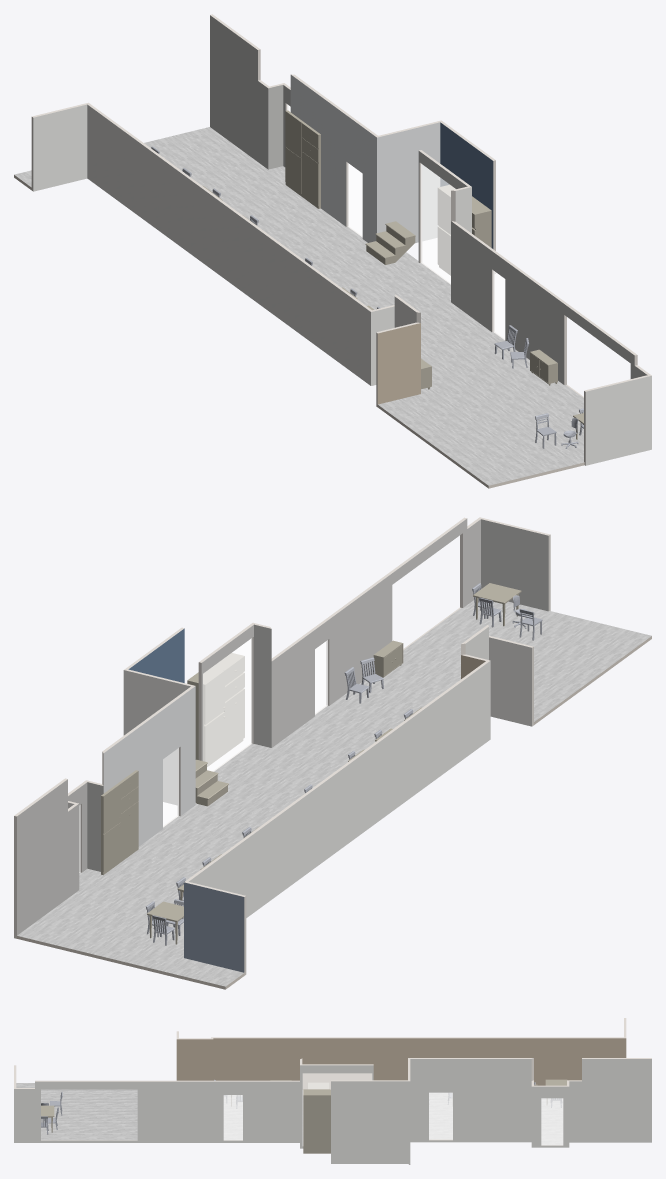
The model's file is LobbyHallway.glb.
The picture shows the model from 3 angles, top to bottom: view 1: azimuth 30°, elevation 25°; view 2: azimuth 150°, elevation 25°; view 3: azimuth 270°, elevation 25°; orthographic projection. The views are drawn at different scales.
Visible parts, largest first — view 1: floor_Dining_Room, wall_10, wall_44, wall_22, wall_30, wall_28, wall_9, wall_4, wall_42, door_2, door_6, storage_cabinet_tall21 (+14 smaller); view 2: floor_Dining_Room, wall_10, wall_44, wall_22, wall_30, door_2, door_6, wall_34, wall_24, storage_cabinet_tall20, wall_13, storage_cabinet_tall21 (+18 smaller); view 3: wall_36, wall_14, wall_3, floor_Dining_Room, wall_7, wall_12, storage_cabinet_tall20, wall_46, wall_1, door_3, door_7, door_1 (+8 smaller).
Part boxes in pixels (x1=…): floor_Dining_Room: x1=144, y1=127, x2=584, y2=485; wall_10: x1=87, y1=104, x2=370, y2=385; wall_44: x1=451, y1=221, x2=647, y2=384; wall_22: x1=290, y1=75, x2=376, y2=242; wall_30: x1=210, y1=15, x2=268, y2=169; wall_28: x1=377, y1=122, x2=440, y2=243; wall_9: x1=585, y1=375, x2=651, y2=465; wall_4: x1=33, y1=104, x2=87, y2=191; wall_42: x1=377, y1=323, x2=420, y2=404; door_2: x1=421, y1=164, x2=455, y2=284; door_6: x1=421, y1=164, x2=454, y2=284; storage_cabinet_tall21: x1=285, y1=110, x2=320, y2=208; floor_Dining_Room: x1=17, y1=600, x2=651, y2=972; wall_10: x1=189, y1=661, x2=490, y2=917; wall_44: x1=271, y1=518, x2=480, y2=747; wall_22: x1=103, y1=686, x2=195, y2=846; wall_30: x1=17, y1=779, x2=79, y2=935; door_2: x1=203, y1=638, x2=251, y2=771; door_6: x1=203, y1=638, x2=251, y2=771; wall_34: x1=481, y1=519, x2=548, y2=611; wall_24: x1=184, y1=882, x2=244, y2=972; storage_cabinet_tall20: x1=187, y1=653, x2=244, y2=766; wall_13: x1=489, y1=637, x2=531, y2=726; storage_cabinet_tall21: x1=101, y1=770, x2=138, y2=875; wall_36: x1=213, y1=1038, x2=626, y2=1089; wall_14: x1=14, y1=1081, x2=299, y2=1142; wall_3: x1=410, y1=1059, x2=531, y2=1142; floor_Dining_Room: x1=16, y1=1083, x2=562, y2=1144; wall_7: x1=569, y1=1059, x2=651, y2=1142; wall_12: x1=331, y1=1081, x2=410, y2=1163; storage_cabinet_tall20: x1=303, y1=1089, x2=330, y2=1153; wall_46: x1=176, y1=1039, x2=213, y2=1080; wall_1: x1=531, y1=1086, x2=569, y2=1147; door_3: x1=429, y1=1093, x2=452, y2=1139; door_7: x1=429, y1=1093, x2=452, y2=1139; door_1: x1=541, y1=1098, x2=562, y2=1144.
Size of the model in its own units: 9.42 by 3.95 by 27.35.
Materials: 77 (2 with a texture image).
